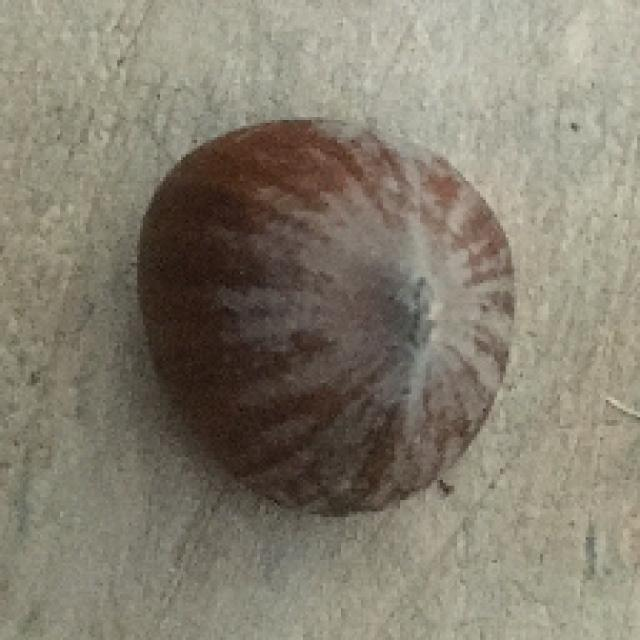damagedHazelnut: (137, 117, 518, 520)
